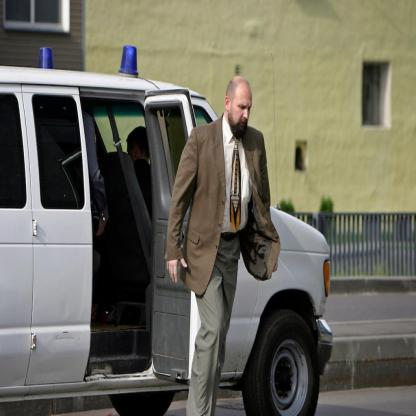face: (231, 89, 253, 132), (127, 145, 140, 174)
